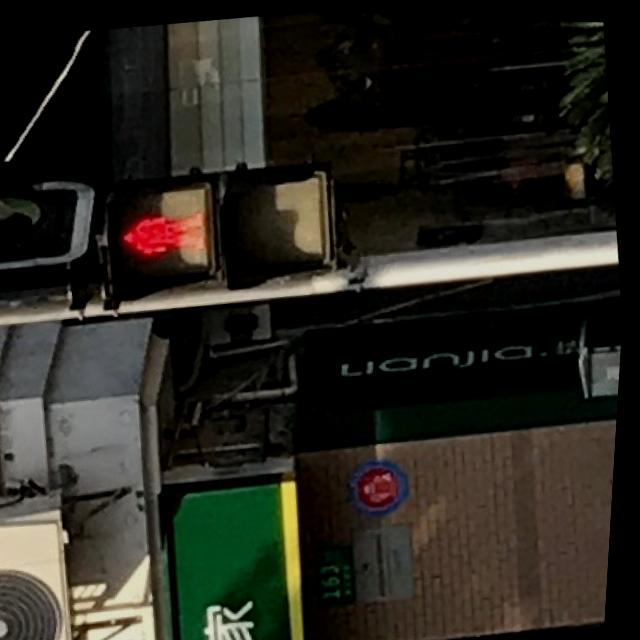red_light: (100, 185, 219, 290)
